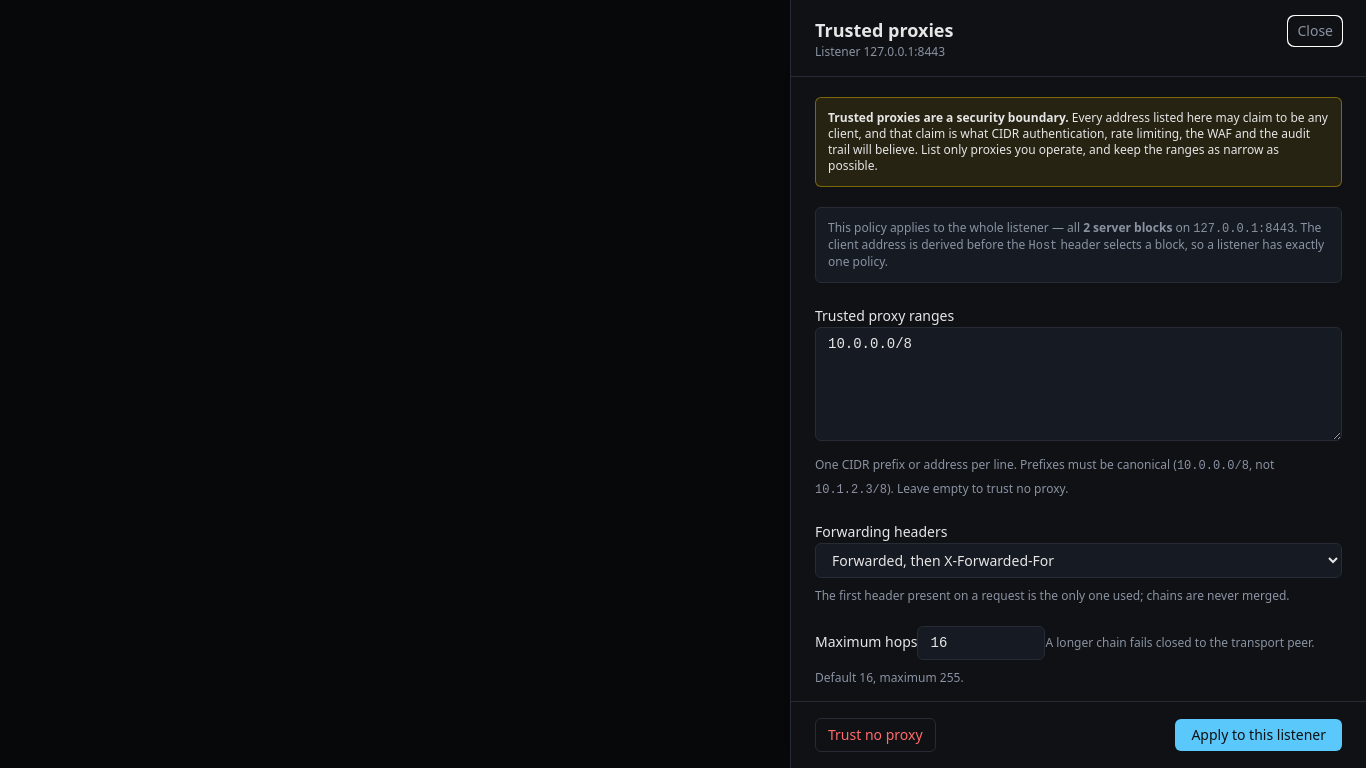
Test: ClientAddressEditor › surfaces the server's validation error rather than validating locally
Replace the text in the text box with "10.1.2.3/8": (1078, 384) [815,327,1342,441]
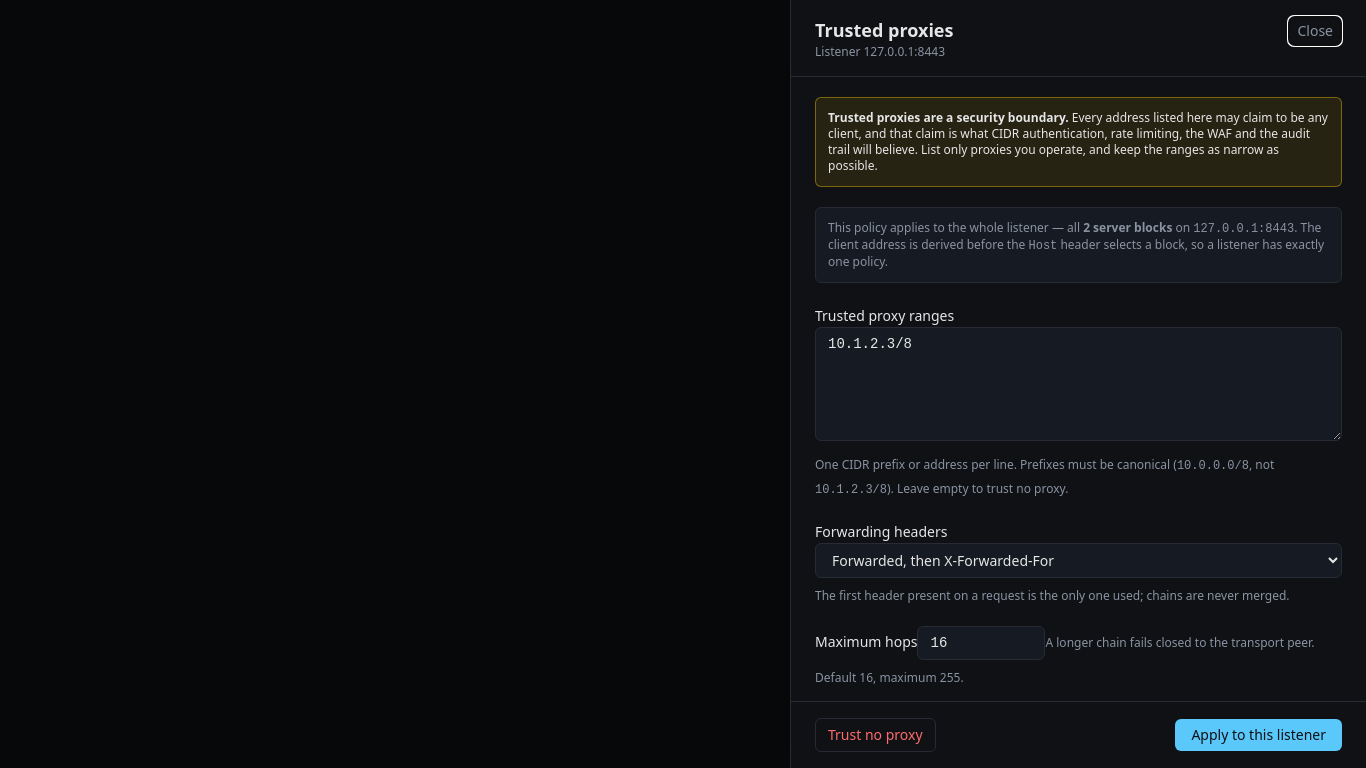
Click the button "Apply to this listener": (1259, 735) [1175,719,1342,751]
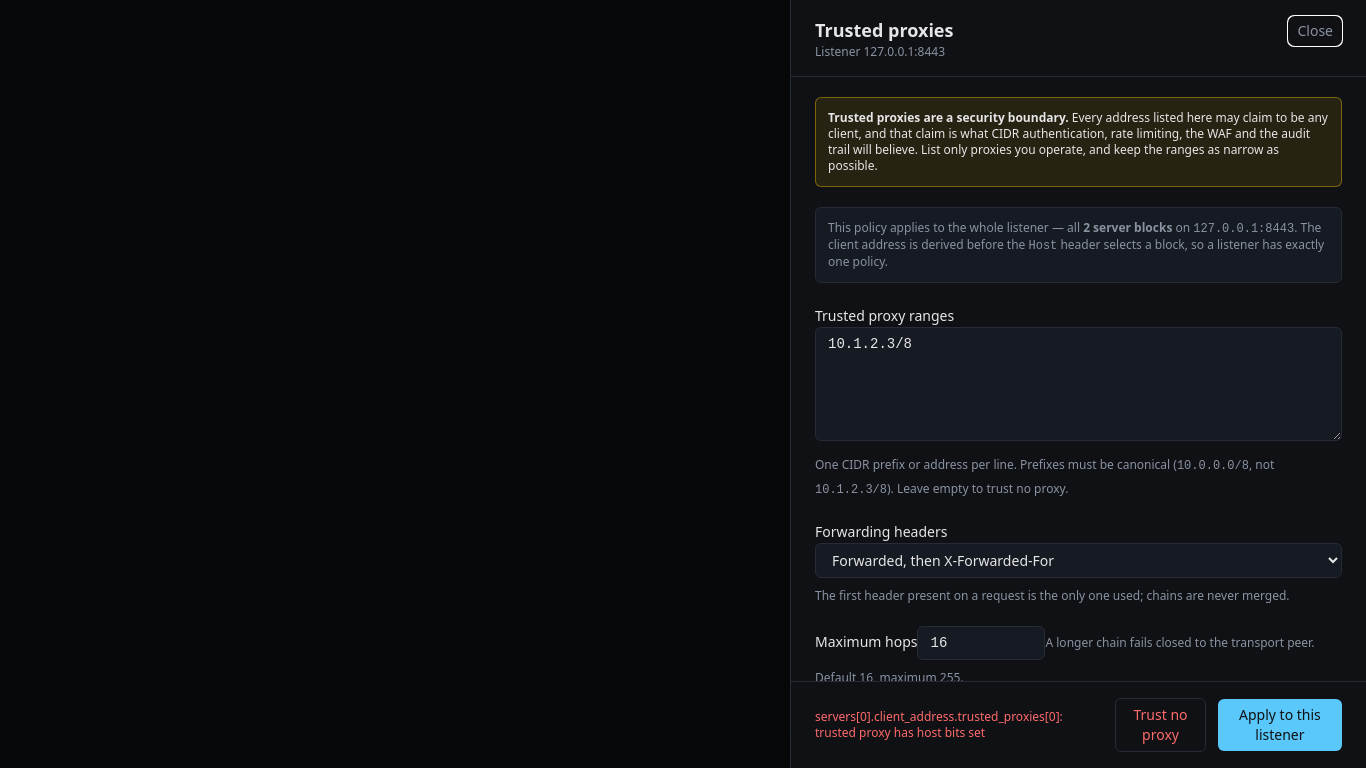
Now the text "host bits set" is shown, box [815,708,1063,741]
